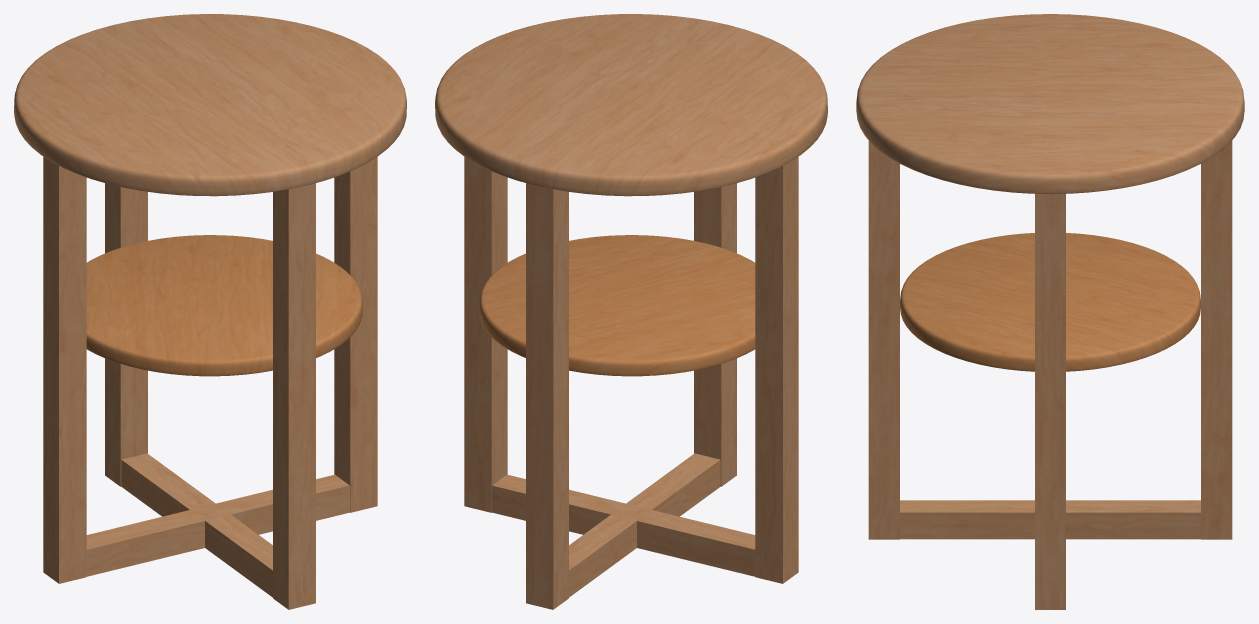
Rendered from Side_Table.fbx.
3 renders of one model, left to right at view 1: azimuth 30°, elevation 25°; view 2: azimuth 150°, elevation 25°; view 3: azimuth 270°, elevation 25°, orthographic.
Parts seen in each view (by area): view 1: Top_Plate, Middle_Plate, Leg_Element_1, Leg_Element_7, Leg_Element_4, Leg_Element_5, Leg_Element_3, Leg_Element_6, Leg_Element_2; view 2: Top_Plate, Middle_Plate, Leg_Element_1, Leg_Element_3, Leg_Element_4, Leg_Element_5, Leg_Element_7, Leg_Element_2, Leg_Element_6; view 3: Top_Plate, Middle_Plate, Leg_Element_4, Leg_Element_3, Leg_Element_7, Leg_Element_2, Leg_Element_6.
Boxes of the visible parts, left/top/right/bottom form: Top_Plate: left=14, top=14, right=406, bottom=196; Middle_Plate: left=86, top=235, right=362, bottom=376; Leg_Element_1: left=43, top=156, right=86, bottom=583; Leg_Element_7: left=273, top=183, right=315, bottom=609; Leg_Element_4: left=334, top=157, right=377, bottom=512; Leg_Element_5: left=86, top=474, right=349, bottom=576; Leg_Element_3: left=105, top=183, right=147, bottom=486; Leg_Element_6: left=121, top=453, right=215, bottom=516; Leg_Element_2: left=205, top=514, right=272, bottom=597; Top_Plate: left=435, top=14, right=827, bottom=196; Middle_Plate: left=479, top=235, right=755, bottom=376; Leg_Element_1: left=755, top=156, right=798, bottom=583; Leg_Element_3: left=526, top=183, right=568, bottom=609; Leg_Element_4: left=464, top=157, right=507, bottom=512; Leg_Element_5: left=492, top=474, right=755, bottom=576; Leg_Element_7: left=694, top=183, right=736, bottom=486; Leg_Element_2: left=626, top=453, right=720, bottom=516; Leg_Element_6: left=569, top=514, right=636, bottom=597; Top_Plate: left=856, top=14, right=1244, bottom=193; Middle_Plate: left=900, top=233, right=1200, bottom=371; Leg_Element_4: left=1035, top=194, right=1065, bottom=609; Leg_Element_3: left=1201, top=140, right=1232, bottom=539; Leg_Element_7: left=868, top=140, right=899, bottom=539; Leg_Element_2: left=900, top=500, right=1034, bottom=539; Leg_Element_6: left=1066, top=500, right=1200, bottom=539.
Bounding box in the file's own units: 0.7132 × 0.8904 × 0.7132.
